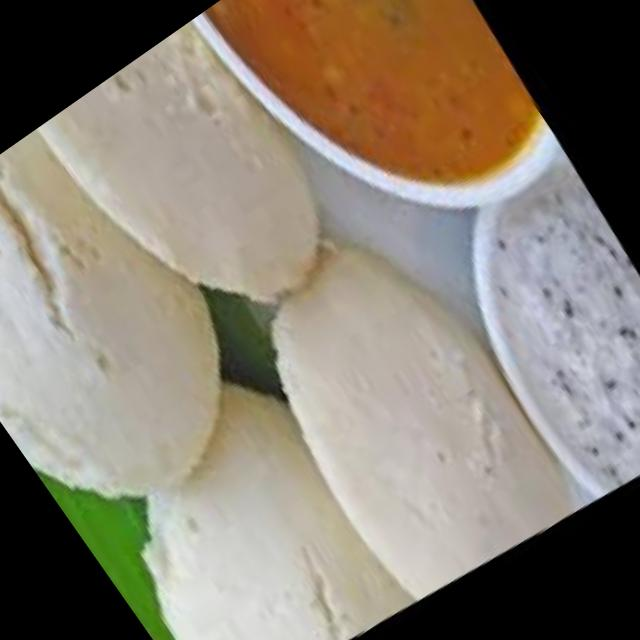idli: (218, 197, 610, 622), (0, 93, 309, 560), (26, 6, 378, 375), (68, 341, 441, 640)
